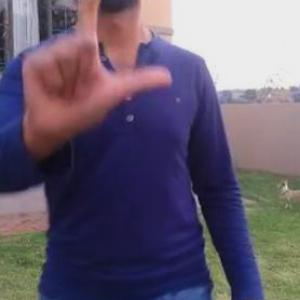land_hand: (17, 0, 178, 152)
